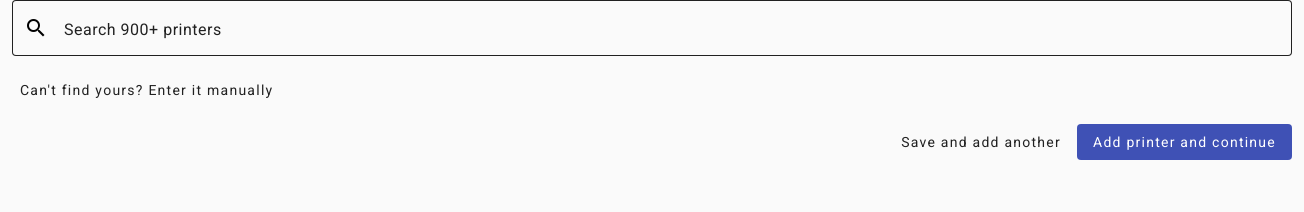
Test case: QuickAddPrinterComponent › welcome mode › explains an empty save when there is no printer yet
What coordinates should you click on to do the following:
click the button "Add printer and continue"
I would click on:
 (1184, 142)
Its box is top-left (1077, 124), bottom-right (1292, 160).
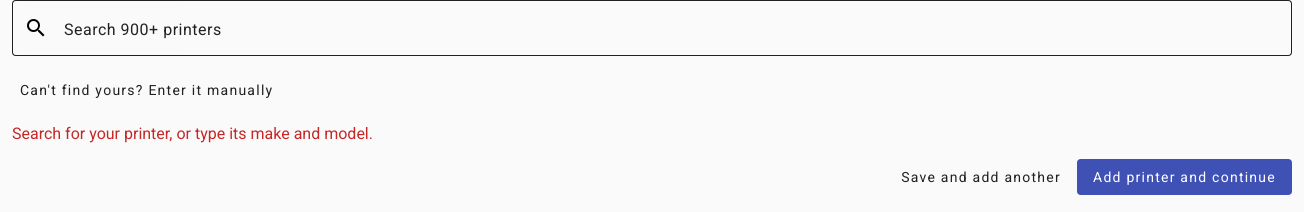
Expected: the text "Search for your printer, or type its make and model." is shown, top-left (12, 124), bottom-right (373, 143)
